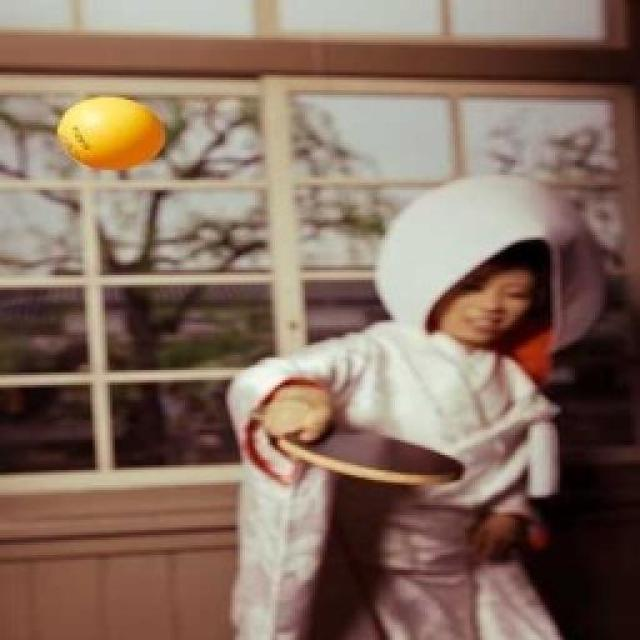oball: (60, 95, 166, 173)
